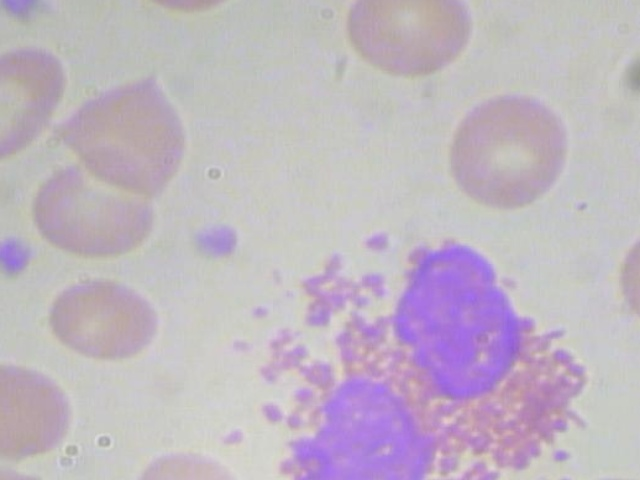Platelets: (180, 218, 244, 261), (0, 231, 44, 281), (0, 0, 47, 27)
RBC: (49, 65, 196, 188), (26, 139, 172, 262), (433, 91, 570, 219), (34, 271, 172, 364), (337, 0, 475, 88), (0, 356, 86, 471), (0, 39, 71, 166), (600, 212, 640, 340)
WBC: (233, 222, 613, 480)
